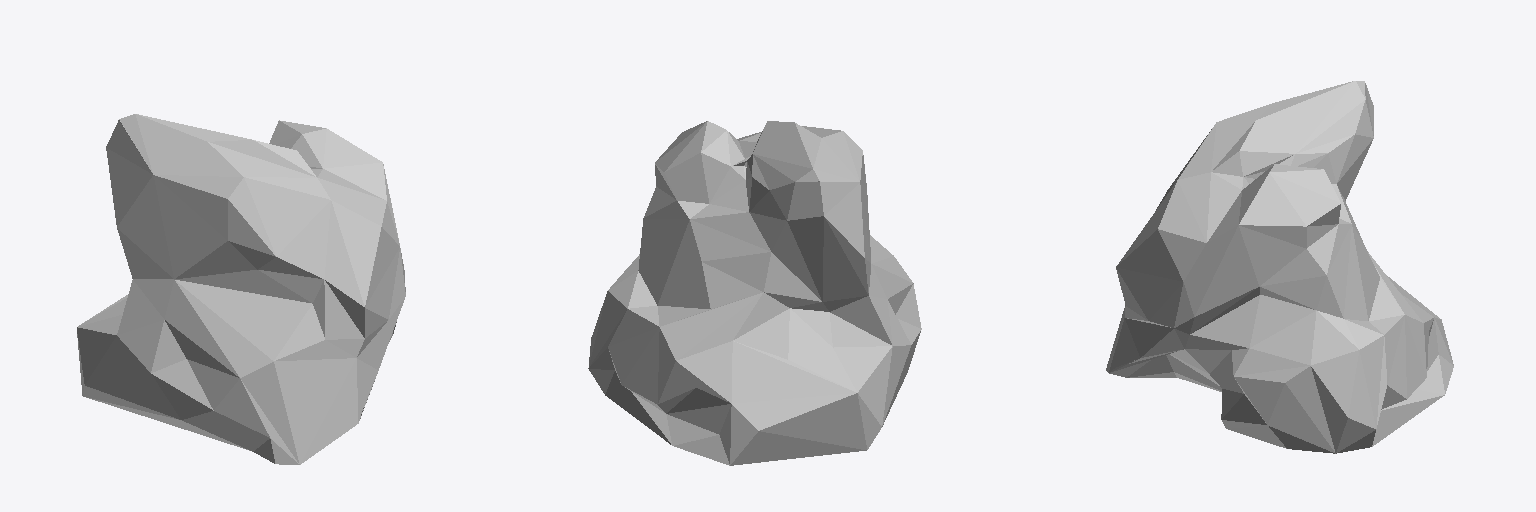
Rendered from BallRock.obj.
The picture shows the model from 3 angles: view 1: azimuth 30°, elevation 25°; view 2: azimuth 150°, elevation 25°; view 3: azimuth 270°, elevation 25°; orthographic projection.
Parts seen in each view (by area): view 1: Stone_low_1; view 2: Stone_low_1; view 3: Stone_low_1.
Boxes of the visible parts, x1,y1,x2,y2 form: Stone_low_1: [77, 114, 405, 464]; Stone_low_1: [588, 121, 921, 465]; Stone_low_1: [1106, 81, 1453, 453].
Bounding box in the file's own units: 2.28 × 2.06 × 2.41.